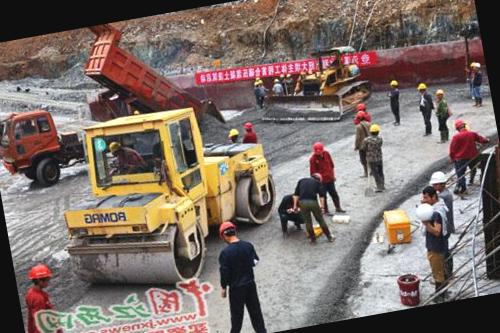no_helmet: (419, 182, 440, 204)
